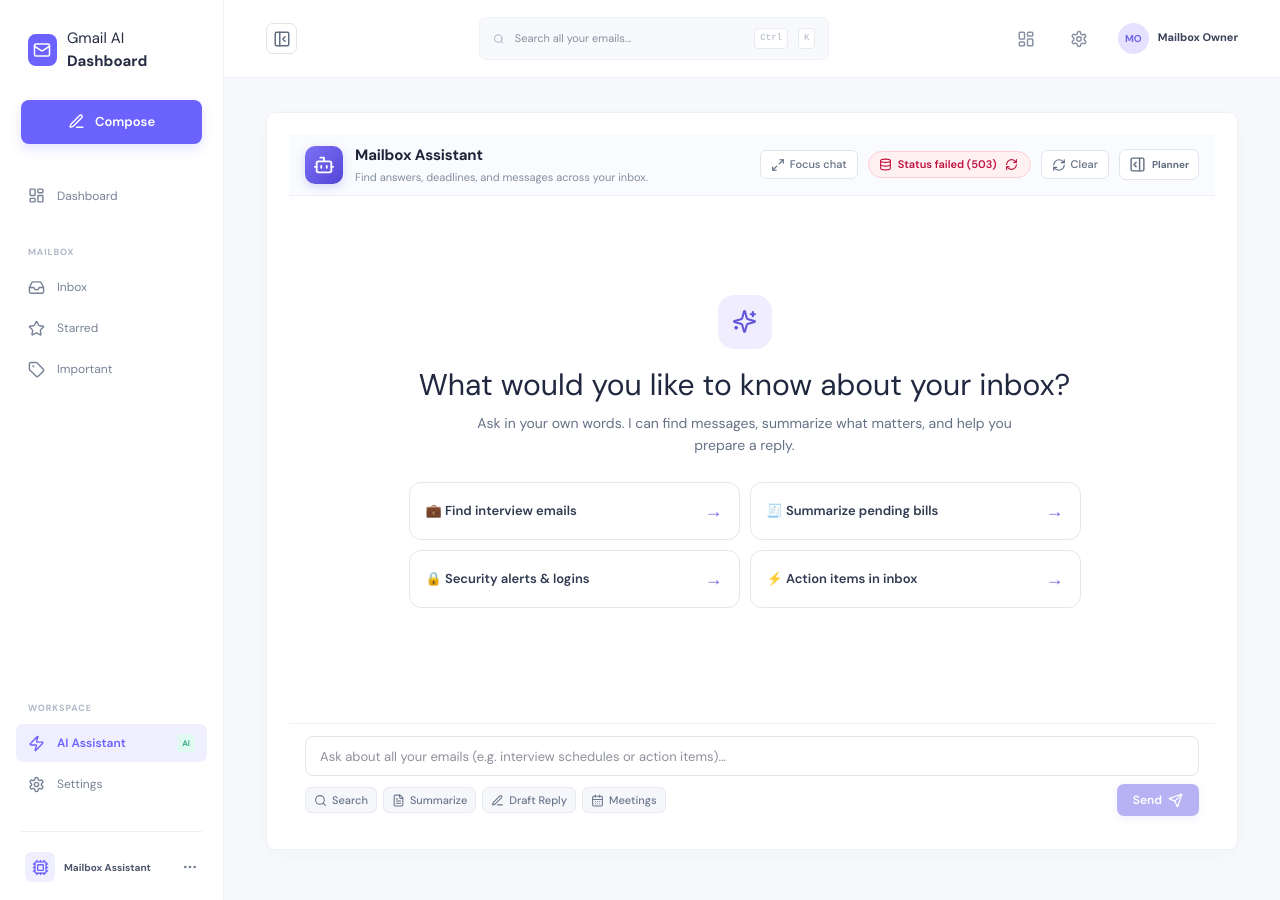
it: shows a pending check, reports an HTTP failure, and recovers on retry
Expected: the text "Checking connection" is shown, [898,156,997,173]
Click the button named "Retry assistant connection" at (1011, 164), box [1003,156,1020,173]
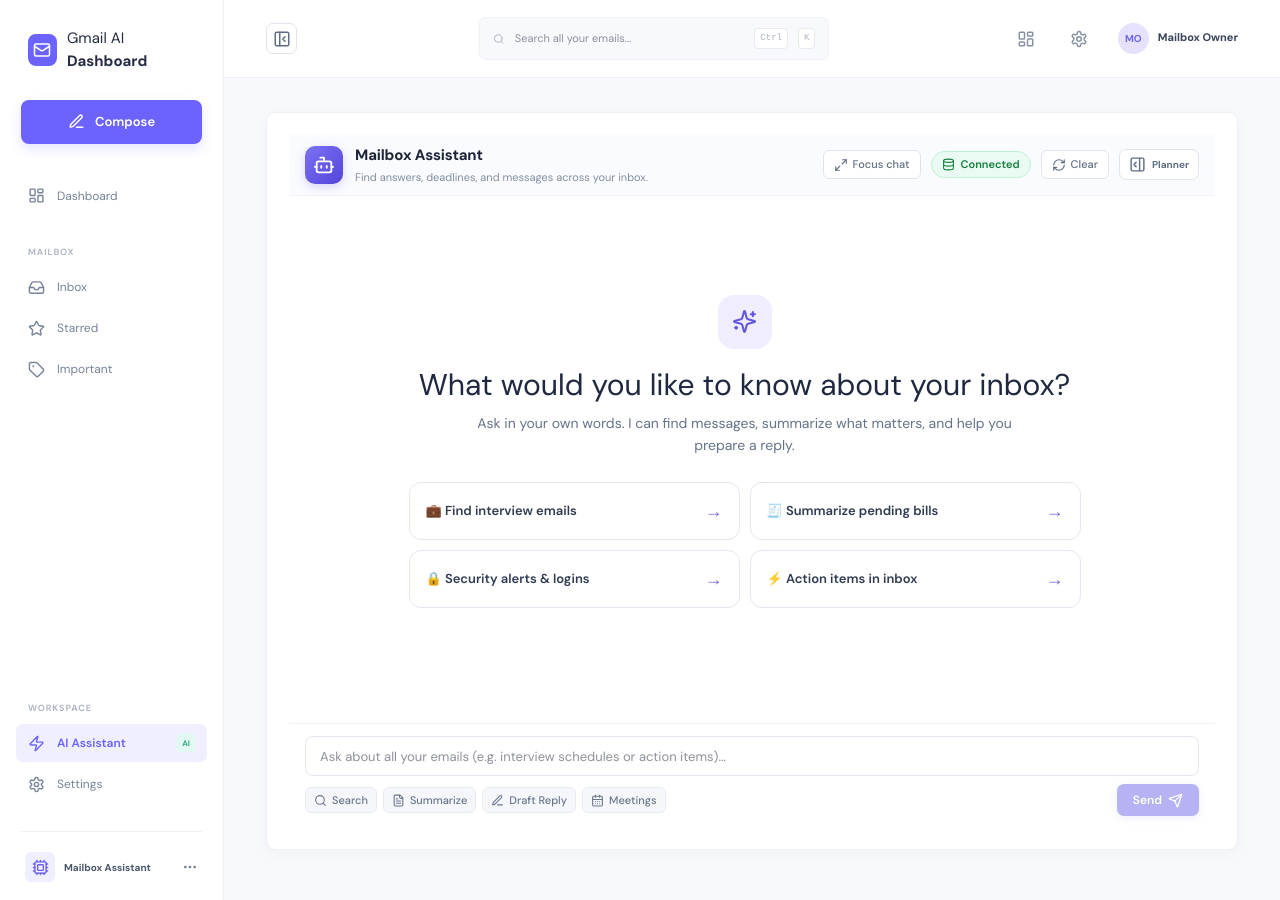
Expected: the text "Connected" is shown, [960,156,1020,173]
